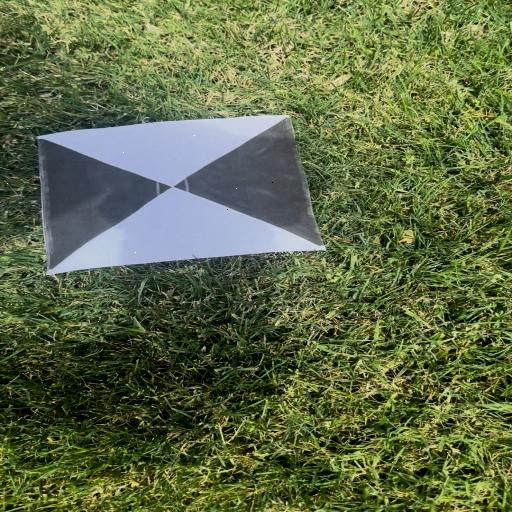target: (31, 114, 326, 273)
